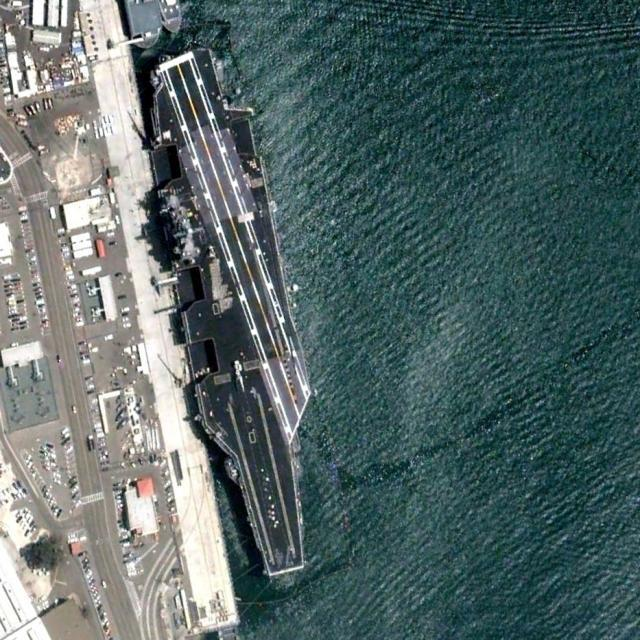Aircraft Carrier: (134, 35, 342, 587)
